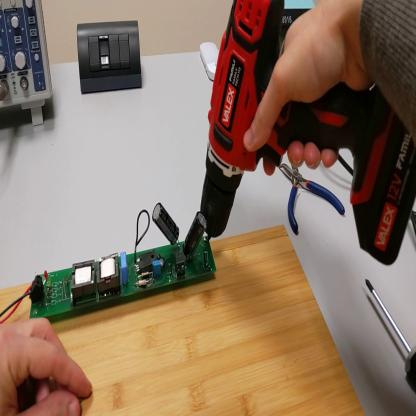electric screwdriver: (204, 1, 416, 268)
hand: (241, 3, 365, 178), (1, 319, 95, 414)
high voltage board: (1, 203, 223, 329)
oscilloscope: (1, 3, 58, 131)
pliers: (277, 162, 348, 239)
screwdriver-: (366, 279, 416, 395)
working area: (1, 223, 364, 415)
